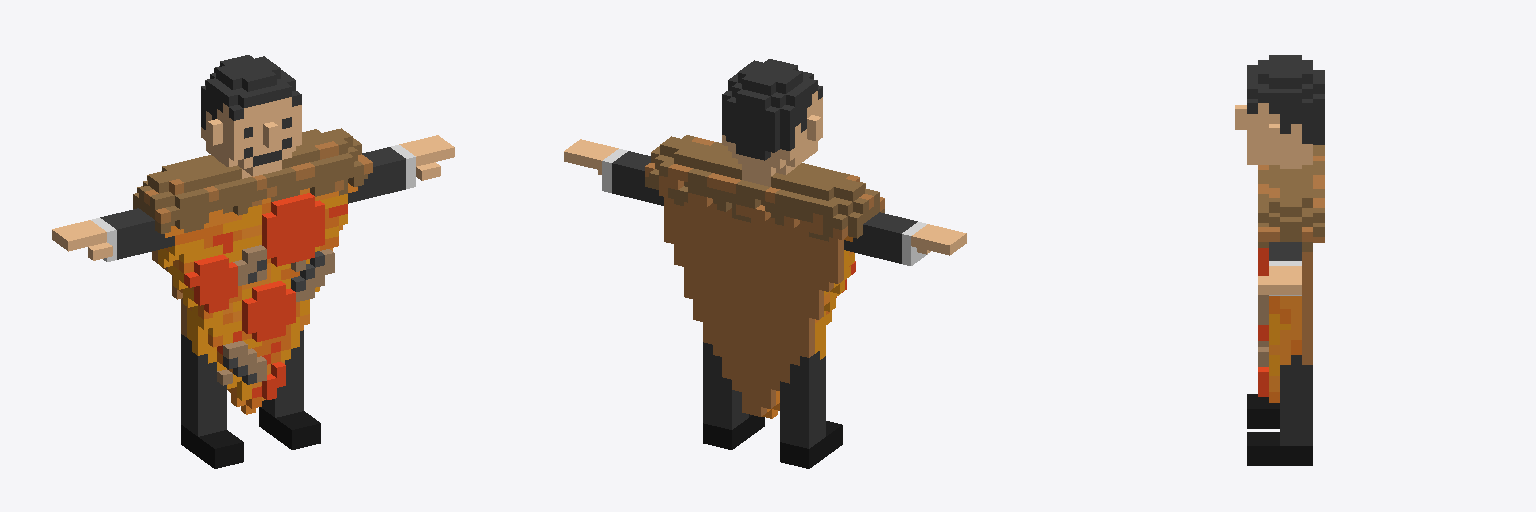
The picture shows the model from 3 angles: view 1: azimuth 30°, elevation 25°; view 2: azimuth 150°, elevation 25°; view 3: azimuth 270°, elevation 25°; orthographic projection.
Bounding box in the file's own units: 40 × 37 × 8.
1 materials, 1 textured.